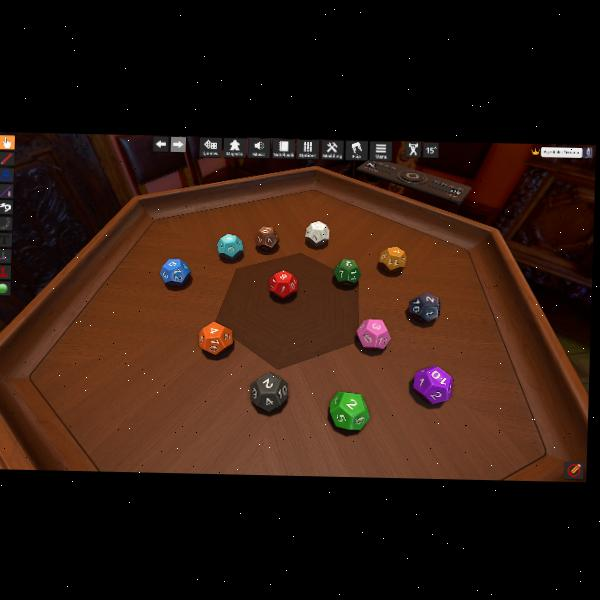d12: (328, 390, 369, 430), (250, 371, 289, 411), (412, 365, 452, 404), (198, 321, 232, 355), (355, 318, 387, 349), (269, 269, 299, 300), (407, 292, 437, 323), (160, 258, 190, 286), (217, 232, 243, 259), (333, 258, 359, 284), (378, 246, 403, 272), (305, 220, 330, 244), (255, 226, 279, 250)
